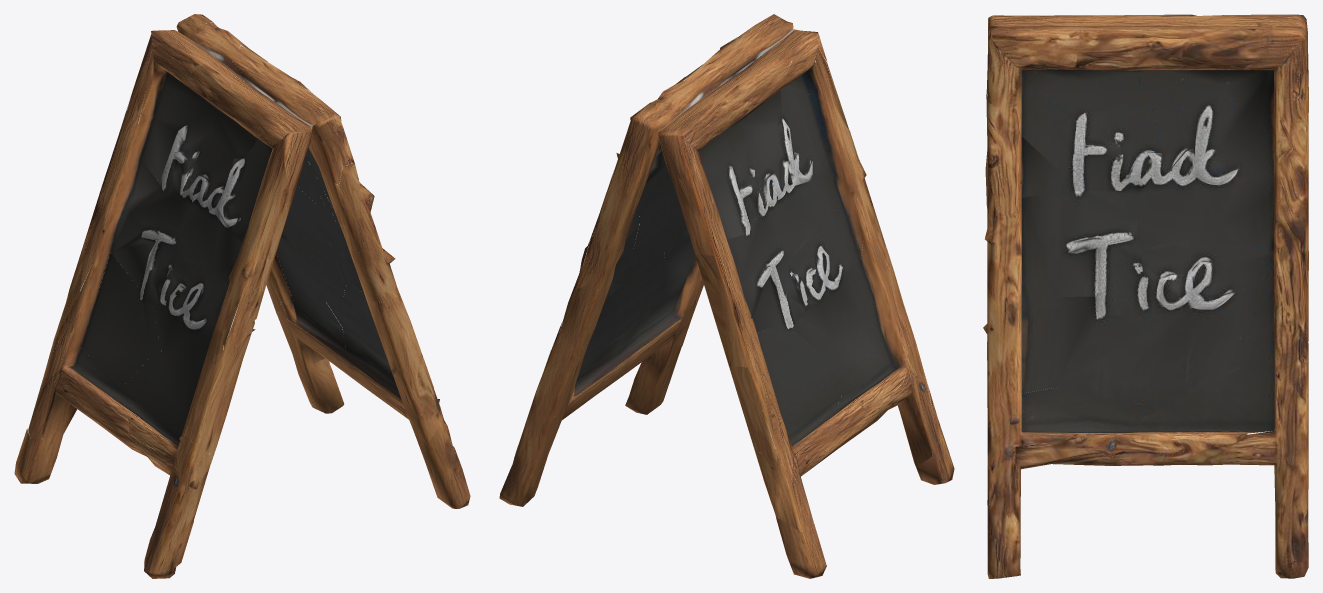
The model's file is aframe_sign.glb.
3 views of the same model, side by side, from view 1: azimuth 30°, elevation 25°; view 2: azimuth 150°, elevation 25°; view 3: azimuth 270°, elevation 25° (orthographic). The views are drawn at different scales.
Parts seen in each view (by area): view 1: tripo_node_69380447-5dbe-4cfd-a559-28926772b353; view 2: tripo_node_69380447-5dbe-4cfd-a559-28926772b353; view 3: tripo_node_69380447-5dbe-4cfd-a559-28926772b353.
Part boxes in pixels (x1,y1,x2,y2): tripo_node_69380447-5dbe-4cfd-a559-28926772b353: (14, 14, 470, 578); tripo_node_69380447-5dbe-4cfd-a559-28926772b353: (499, 14, 954, 578); tripo_node_69380447-5dbe-4cfd-a559-28926772b353: (983, 14, 1308, 578).
Bounding box in the file's own units: 0.6643 × 0.8501 × 0.5227.
Materials: 1 (1 with a texture image).
